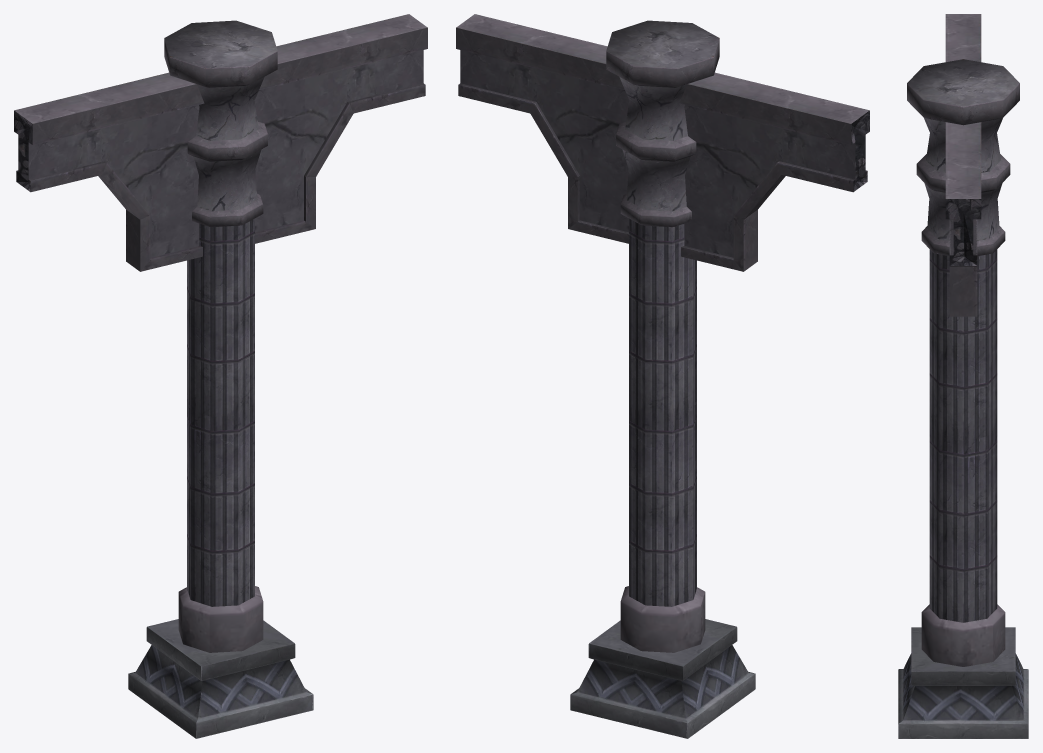
The model's file is BOSS_Pillars_01.FBX.
3 renders of one model, left to right at view 1: azimuth 30°, elevation 25°; view 2: azimuth 150°, elevation 25°; view 3: azimuth 270°, elevation 25°, orthographic. The views are drawn at different scales.
Visible parts, largest first — view 1: BOSS_Pillars_01; view 2: BOSS_Pillars_01; view 3: BOSS_Pillars_01.
Part boxes in pixels (left/top/right/bottom): BOSS_Pillars_01: left=14, top=14, right=427, bottom=738; BOSS_Pillars_01: left=456, top=14, right=869, bottom=738; BOSS_Pillars_01: left=898, top=14, right=1028, bottom=738.
Size of the model in its own units: 4.53 by 7.18 by 1.35.
